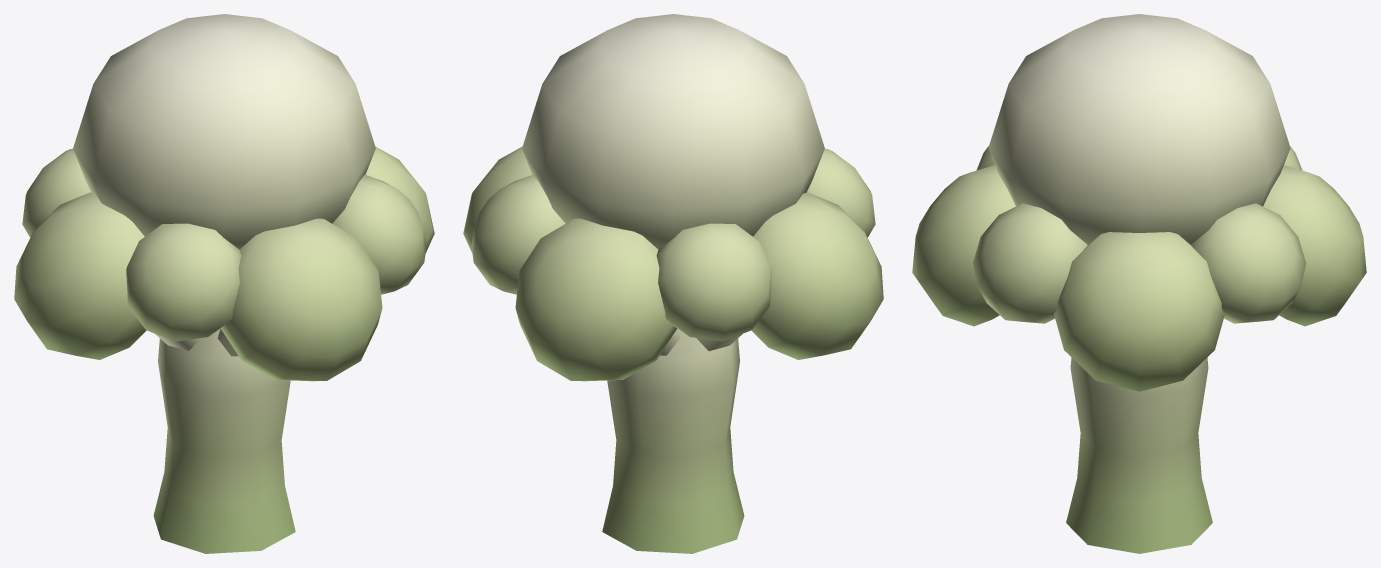
File: Cauliflower_Piece.glb
3 views of the same model, side by side, from view 1: azimuth 30°, elevation 25°; view 2: azimuth 150°, elevation 25°; view 3: azimuth 270°, elevation 25° (orthographic).
Parts seen in each view (by area): view 1: Cauliflower_Piece; view 2: Cauliflower_Piece; view 3: Cauliflower_Piece.
Part boxes in pixels (x1,y1,x2,y2): Cauliflower_Piece: (14,14,434,553); Cauliflower_Piece: (463,14,883,553); Cauliflower_Piece: (912,14,1366,553).
Size of the model in its own units: 0.2543 by 0.3094 by 0.2543.
Materials: 1 (1 with a texture image).
